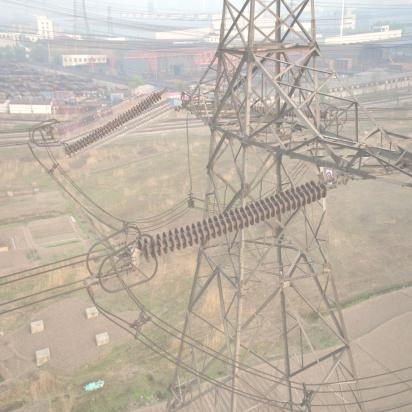insulator: (137, 175, 339, 265), (56, 93, 177, 150)
